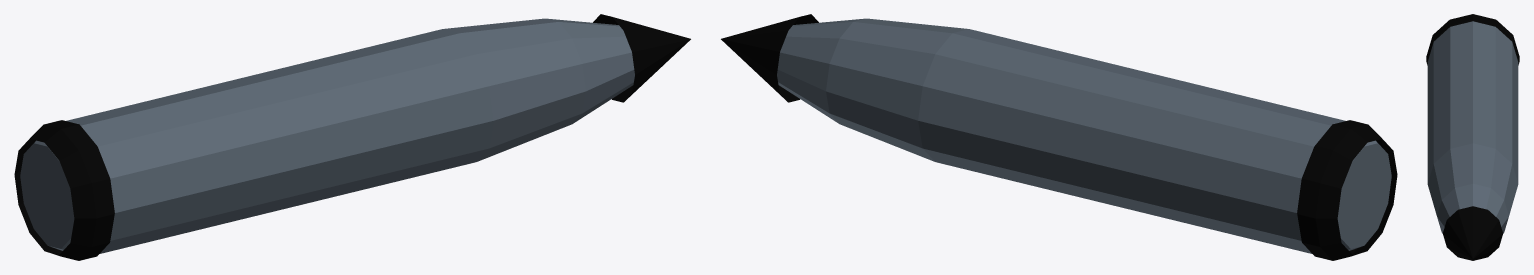
File: f_agender.glb
3 renders of one model, left to right at view 1: azimuth 30°, elevation 25°; view 2: azimuth 150°, elevation 25°; view 3: azimuth 270°, elevation 25°, orthographic. The views are drawn at different scales.
Parts seen in each view (by area): view 1: Projectile / tapered copper-alloy jacket.049, Projectile / rear tracer compound.049, Projectile / luminous nose.049; view 2: Projectile / tapered copper-alloy jacket.049, Projectile / rear tracer compound.049, Projectile / luminous nose.049; view 3: Projectile / tapered copper-alloy jacket.049, Projectile / luminous nose.049, Projectile / rear tracer compound.049.
Part boxes in pixels (bbox=[...]): Projectile / tapered copper-alloy jacket.049: bbox=[20, 18, 634, 253]; Projectile / rear tracer compound.049: bbox=[14, 120, 114, 260]; Projectile / luminous nose.049: bbox=[593, 14, 690, 102]; Projectile / tapered copper-alloy jacket.049: bbox=[777, 18, 1391, 253]; Projectile / rear tracer compound.049: bbox=[1297, 120, 1397, 260]; Projectile / luminous nose.049: bbox=[721, 14, 818, 102]; Projectile / tapered copper-alloy jacket.049: bbox=[1427, 21, 1518, 233]; Projectile / luminous nose.049: bbox=[1442, 206, 1503, 260]; Projectile / rear tracer compound.049: bbox=[1426, 14, 1519, 65].
Bounding box in the file's own units: 0.424 × 0.08 × 0.08.
